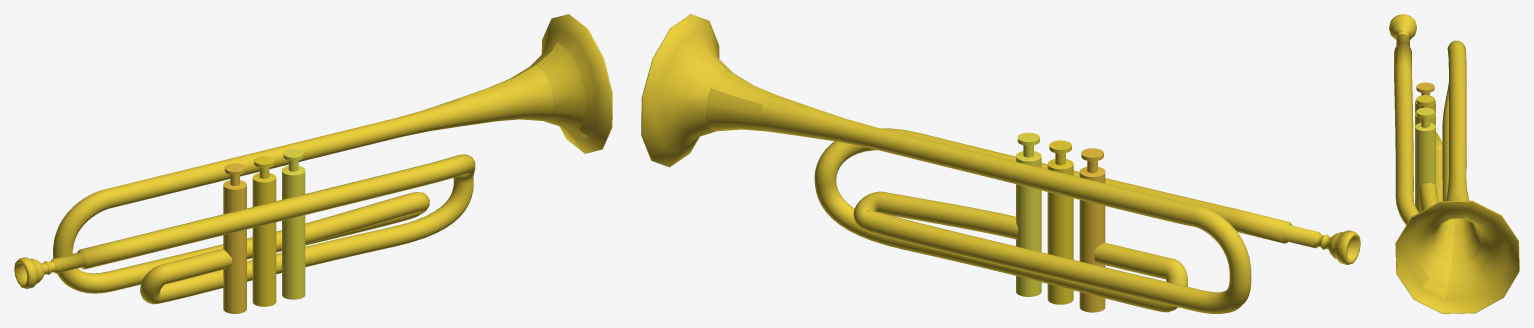
File: movingTP.glb
The picture shows the model from 3 angles, left to right: view 1: azimuth 30°, elevation 25°; view 2: azimuth 150°, elevation 25°; view 3: azimuth 270°, elevation 25°; orthographic projection. The views are drawn at different scales.
Parts seen in each view (by area): view 1: ベジエカーブ.001, 円柱.001, 円柱.003, 円柱.002; view 2: ベジエカーブ.001, 円柱.001, 円柱.003, 円柱.002; view 3: ベジエカーブ.001, 円柱.003, 円柱.001, 円柱.002.
Boxes of the visible parts, x1,y1,x2,y2 form: ベジエカーブ.001: [14, 14, 612, 304]; 円柱.001: [252, 156, 276, 306]; 円柱.003: [282, 149, 305, 299]; 円柱.002: [223, 163, 246, 313]; ベジエカーブ.001: [641, 14, 1360, 313]; 円柱.001: [1047, 140, 1073, 304]; 円柱.003: [1016, 132, 1041, 296]; 円柱.002: [1079, 148, 1105, 312]; ベジエカーブ.001: [1389, 14, 1519, 313]; 円柱.003: [1415, 107, 1435, 212]; 円柱.001: [1415, 95, 1435, 125]; 円柱.002: [1415, 82, 1435, 113].
Size of the model in its own units: 4.65 by 1.42 by 1.01.
